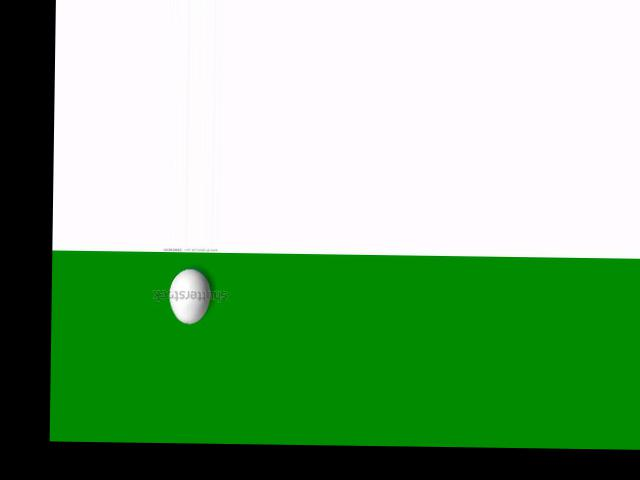egg: (168, 268, 210, 323)
